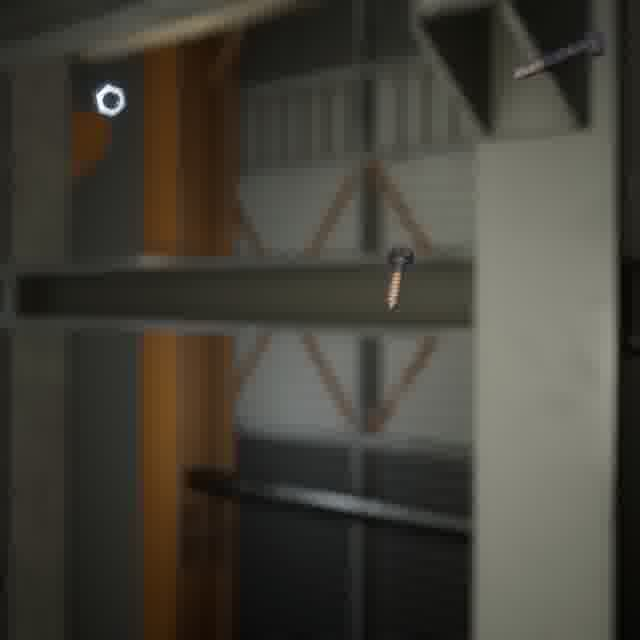bolt: (508, 24, 610, 84), (380, 241, 419, 312)
nut: (88, 79, 131, 121)
